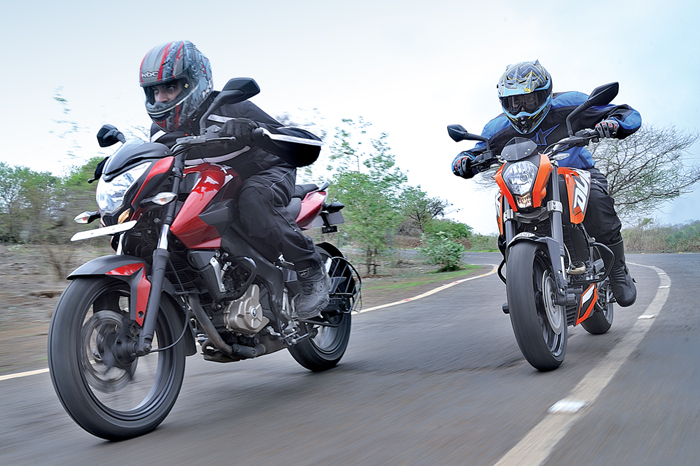helmet: (138, 37, 212, 124), (495, 58, 552, 132)
